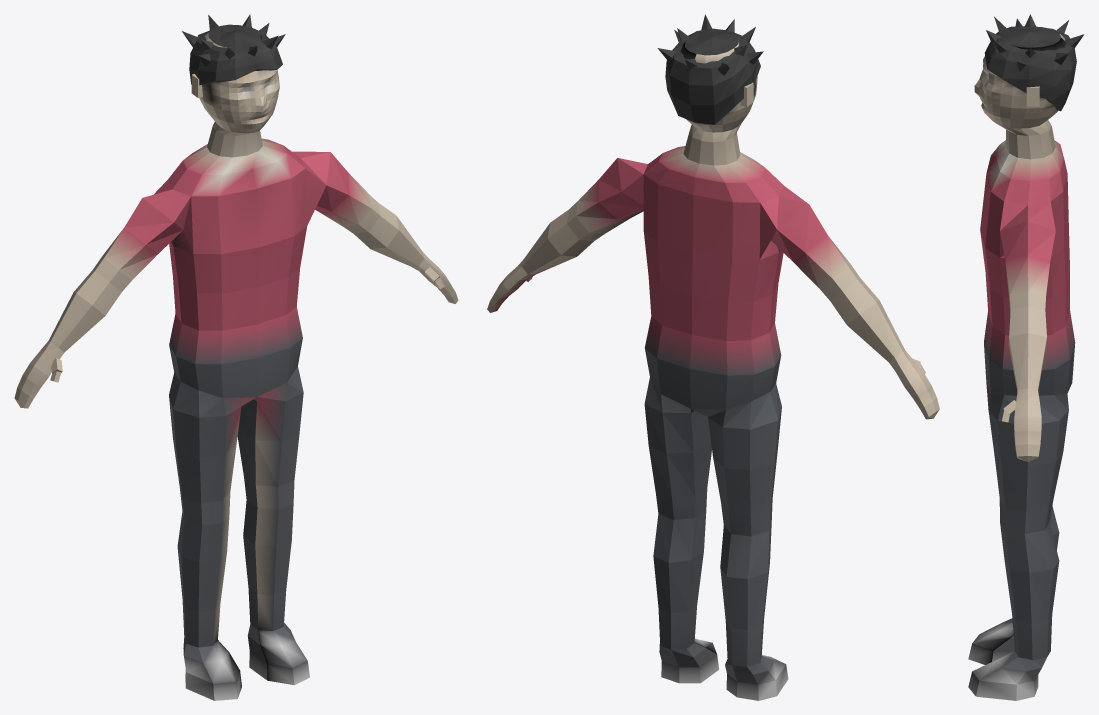
Rendered from char__pessoa__rafa.glb.
3 renders of one model, left to right at view 1: azimuth 30°, elevation 25°; view 2: azimuth 150°, elevation 25°; view 3: azimuth 270°, elevation 25°, orthographic.
Visible parts, largest first — view 1: char__pessoa__rafa; view 2: char__pessoa__rafa; view 3: char__pessoa__rafa.
Boxes of the visible parts, x1,y1,x2,y2 form: char__pessoa__rafa: (14,14,458,700); char__pessoa__rafa: (487,14,939,700); char__pessoa__rafa: (968,14,1084,700).
Bounding box in the file's own units: 1.24 × 1.76 × 0.286.
